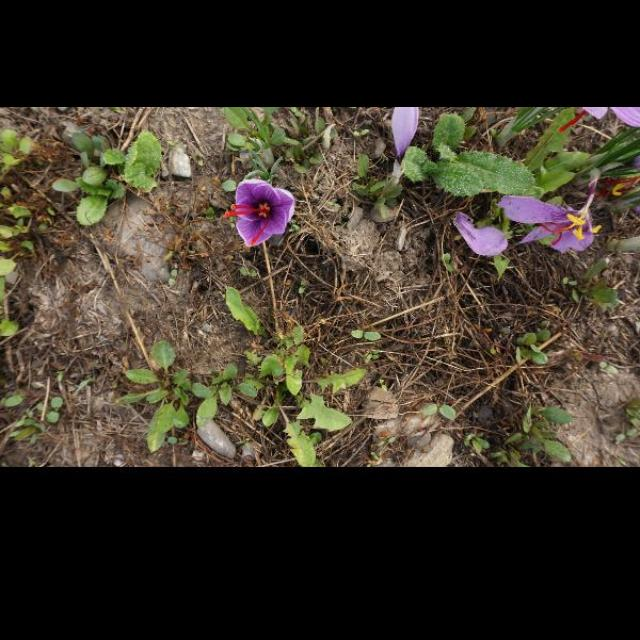flower: (224, 180, 296, 247), (389, 107, 418, 163)
